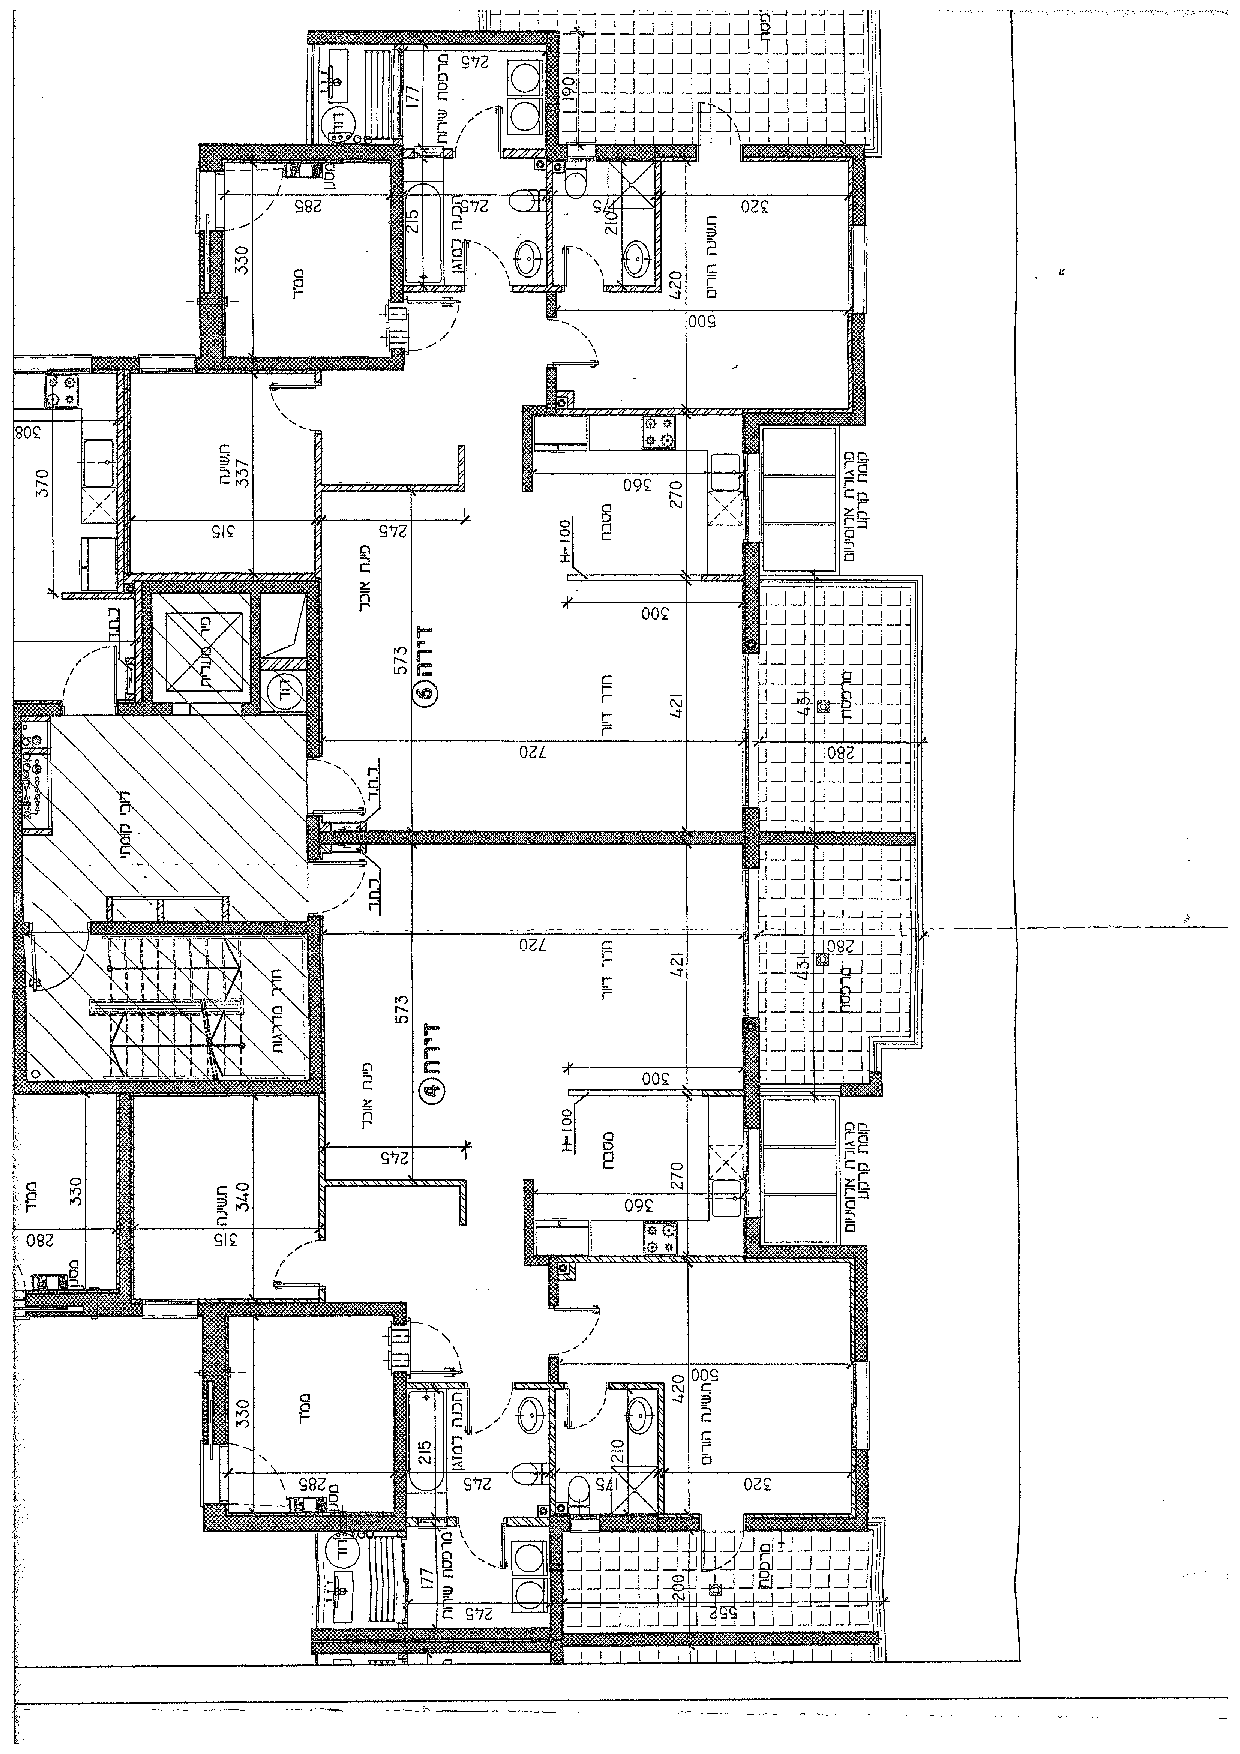door: (56, 639, 117, 692), (416, 297, 476, 350), (260, 377, 311, 440), (560, 313, 611, 374), (450, 87, 506, 138), (562, 225, 607, 280)
wall: (13, 1079, 295, 1096), (318, 831, 723, 841), (309, 30, 556, 46), (309, 921, 325, 1092), (841, 314, 866, 424), (391, 142, 405, 302), (743, 411, 866, 427), (743, 539, 758, 650), (734, 809, 760, 870), (743, 411, 761, 450)
